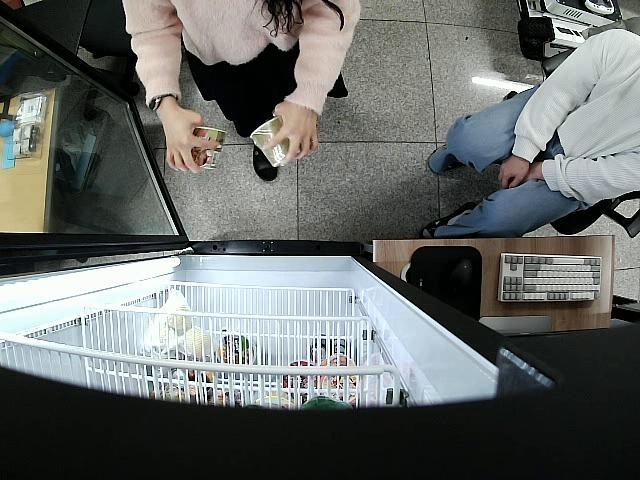03_chapagetti_L: (251, 116, 302, 168), (190, 126, 228, 171)
